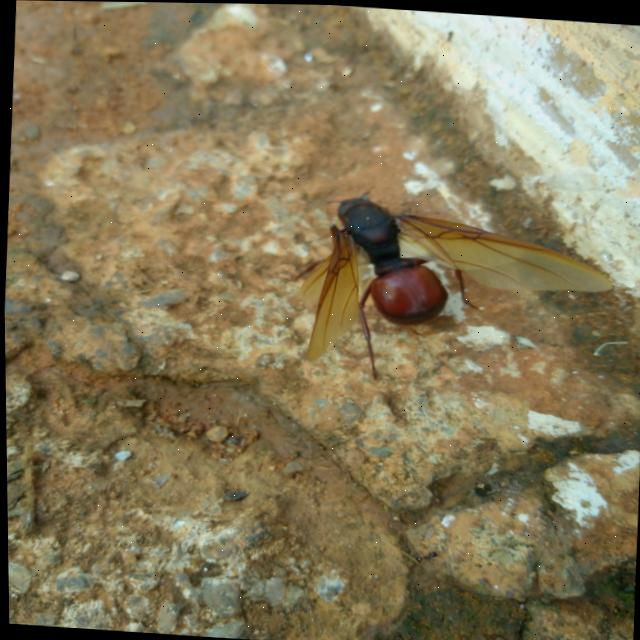Alive-Female-Alate: (287, 180, 620, 395)
